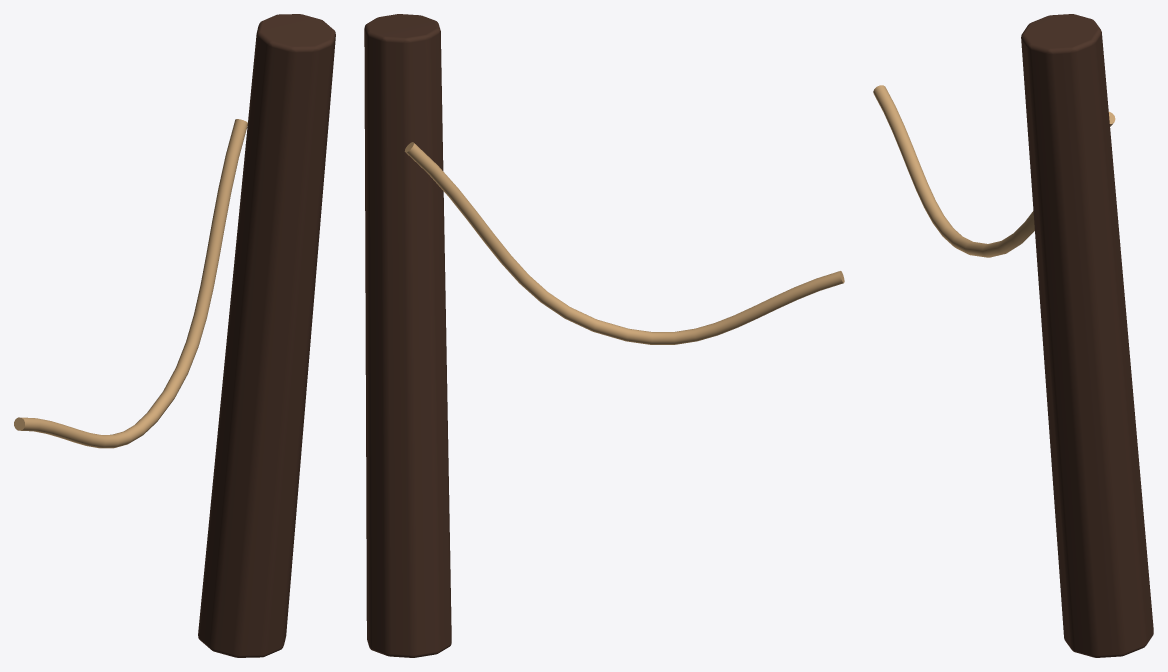
File: mooring.glb
The picture shows the model from 3 angles, left to right: view 1: azimuth 30°, elevation 25°; view 2: azimuth 150°, elevation 25°; view 3: azimuth 270°, elevation 25°; orthographic projection. The views are drawn at different scales.
Visible parts, largest first — view 1: mooring.001, rope; view 2: mooring.001, rope; view 3: mooring.001, rope.
Boxes of the visible parts, x1,y1,x2,y2 form: mooring.001: (198,14,335,657); rope: (14,119,247,448); mooring.001: (364,14,451,657); rope: (404,142,844,344); mooring.001: (1021,14,1153,657); rope: (873,85,1115,257).
Size of the model in its own units: 1.02 by 1.51 by 0.6108.
